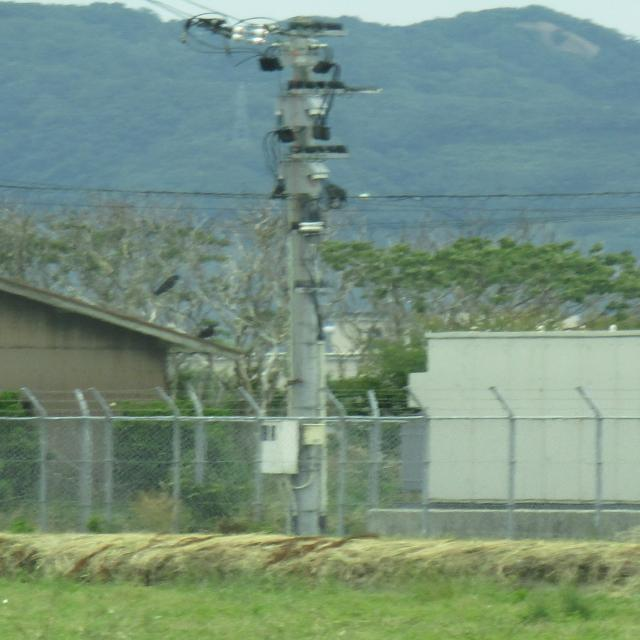pole: (199, 10, 393, 544)
